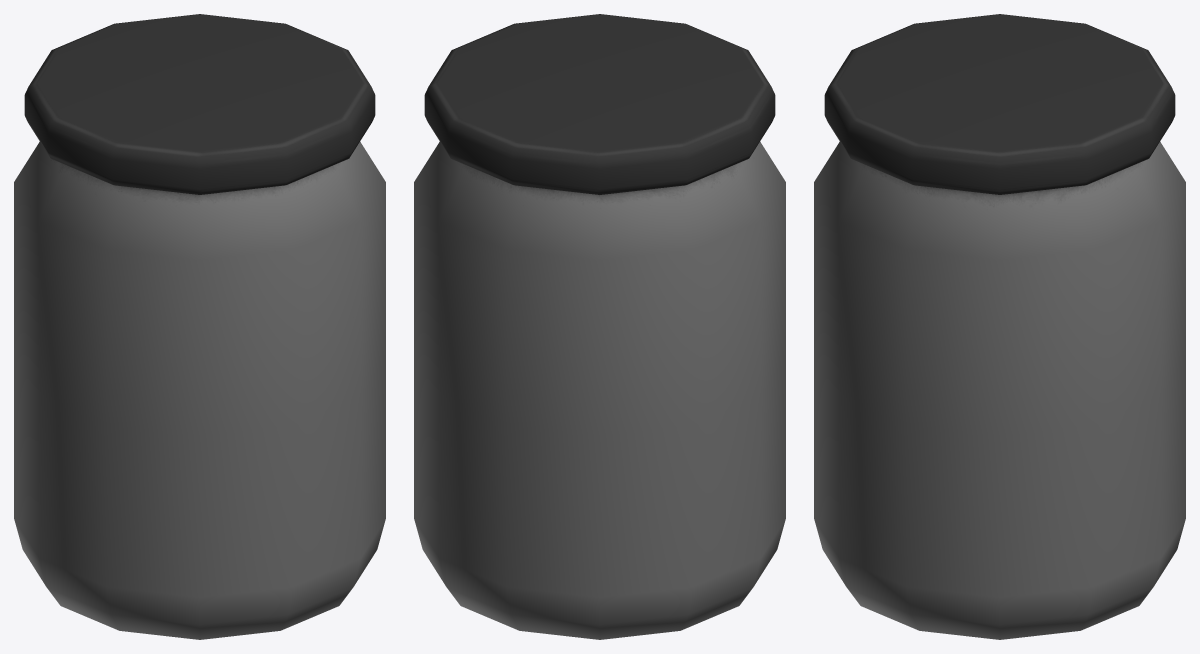
The model's file is Jar.fbx.
The picture shows the model from 3 angles, left to right: view 1: azimuth 30°, elevation 25°; view 2: azimuth 150°, elevation 25°; view 3: azimuth 270°, elevation 25°; orthographic projection.
Parts seen in each view (by area): view 1: polySurface810; view 2: polySurface810; view 3: polySurface810.
Part boxes in pixels (x1,y1,x2,y2): polySurface810: (14, 14, 385, 639); polySurface810: (414, 14, 785, 639); polySurface810: (814, 14, 1185, 639).
Bounding box in the file's own units: 6.21 × 9.2 × 6.21.
Materials: 2 (2 with a texture image).
